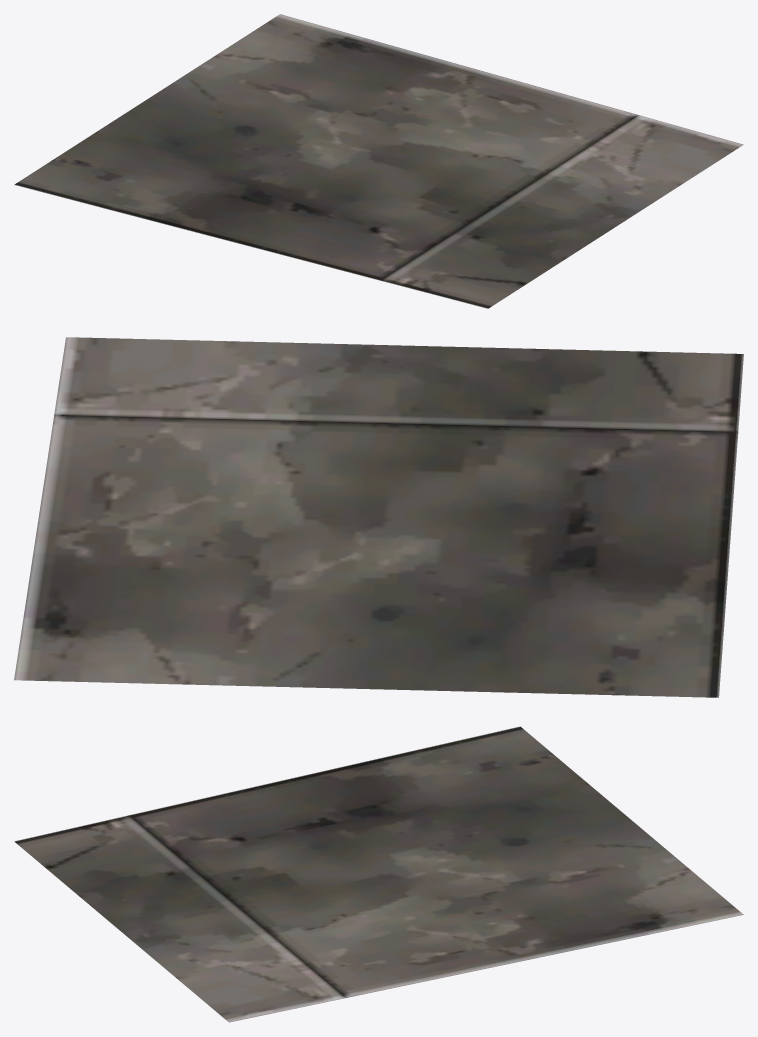
Rendered from CH09_SMAUG_PLAYSURFACE_LAIR148.fbx.
3 renders of one model, top to bottom at view 1: azimuth 30°, elevation 25°; view 2: azimuth 150°, elevation 25°; view 3: azimuth 270°, elevation 25°, orthographic. The views are drawn at different scales.
Parts seen in each view (by area): view 1: CH09_SMAUG_PLAYSURFACE_LAIR148; view 2: CH09_SMAUG_PLAYSURFACE_LAIR148; view 3: CH09_SMAUG_PLAYSURFACE_LAIR148.
Boxes of the visible parts, <box> form: CH09_SMAUG_PLAYSURFACE_LAIR148: <box>14,14,743,308</box>; CH09_SMAUG_PLAYSURFACE_LAIR148: <box>14,337,743,697</box>; CH09_SMAUG_PLAYSURFACE_LAIR148: <box>14,726,743,1022</box>.
Bounding box in the file's own units: 14895 × 0.00253 × 15518.
1 material, 1 textured.
